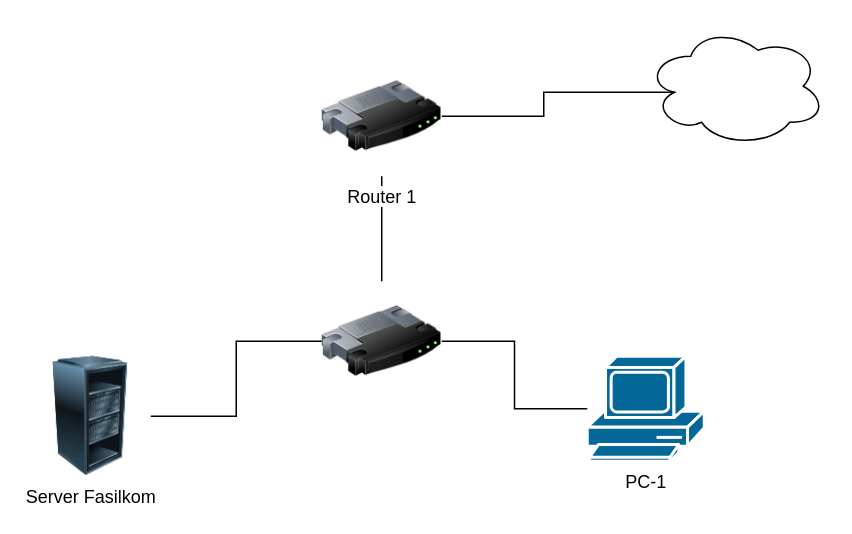
Some shapes in this 852 by 534 pixel diagram are drawn without their labels. Here are the shapes that lost their labels. From the top down, the box of each, then its label:
(644, 25, 826, 146): Internet
(321, 280, 441, 400): Router 2 (Switch)
